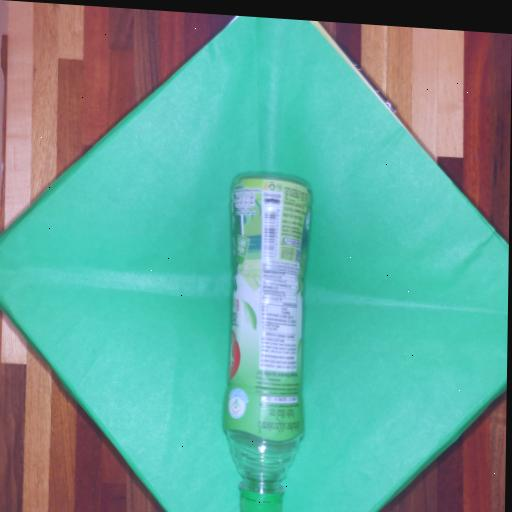bottle: (212, 160, 321, 512)
